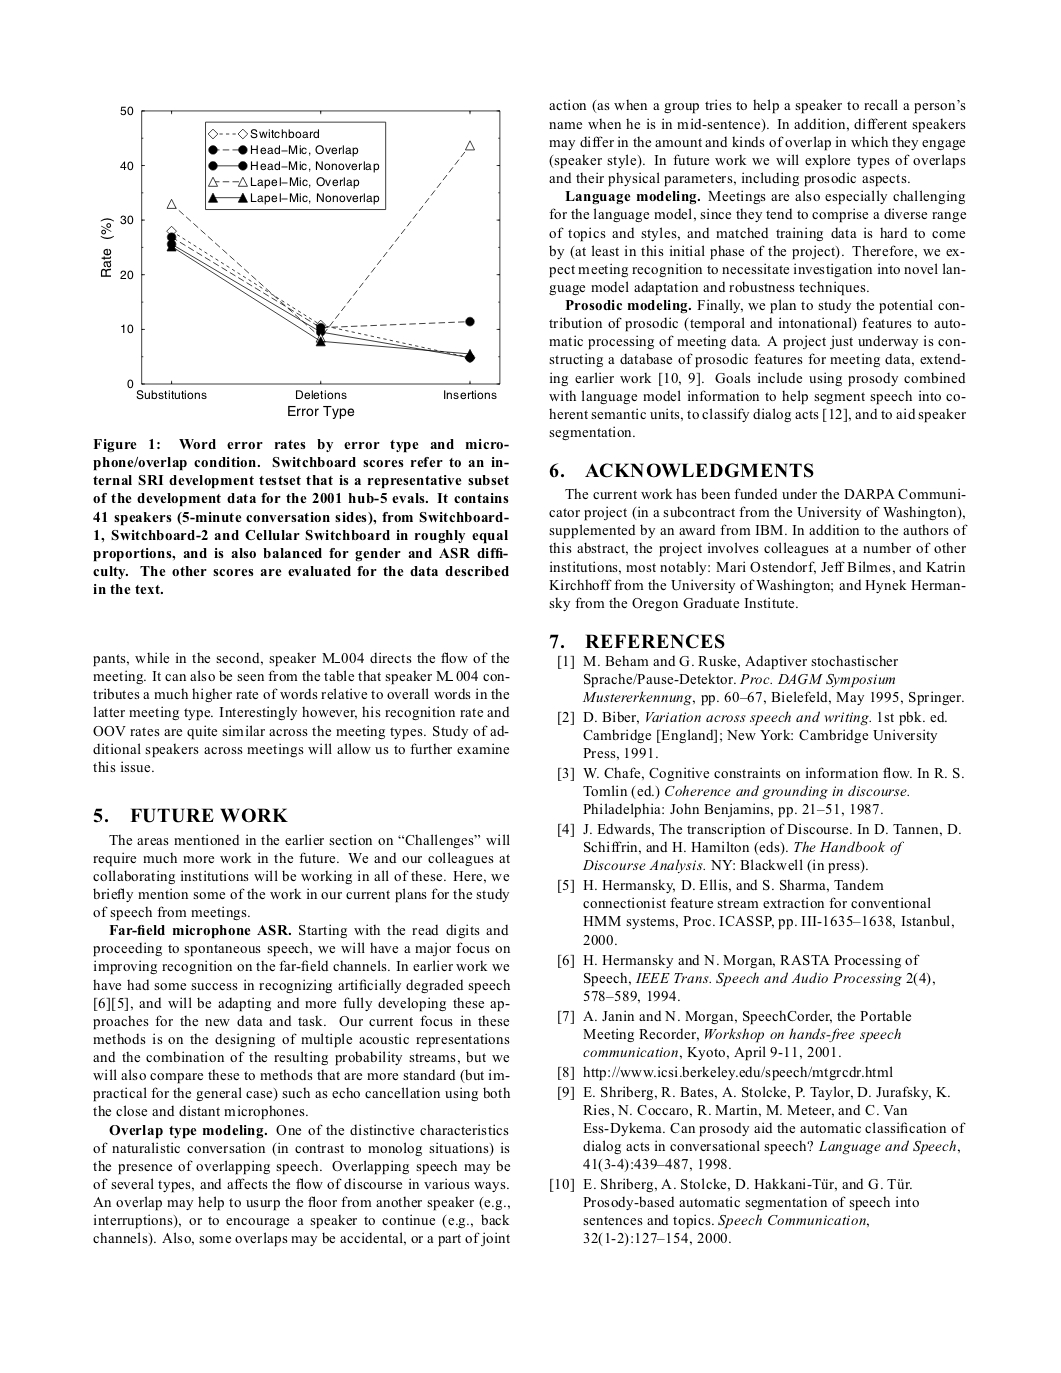figure: (100, 105, 500, 400)
